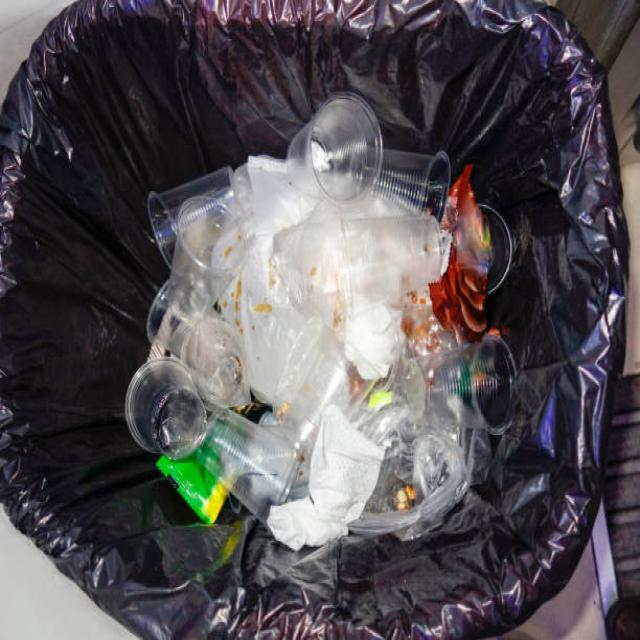plastic: (138, 149, 506, 551)
